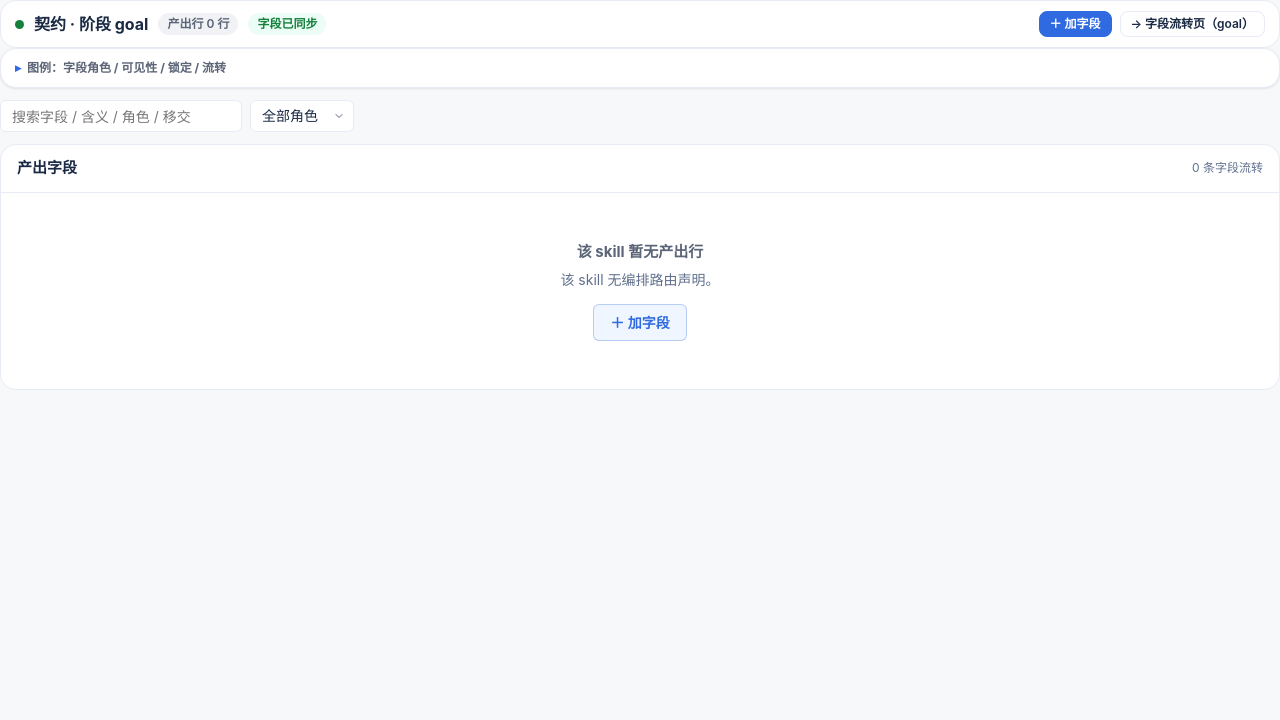
Test: 字段路由 · 加字段向导 › canAdd 为真时「＋ 加字段」可打开向导
Click the button "＋ 加字段" in the row of "字段已同步".
click(1075, 24)  # box [1038,11,1112,37]
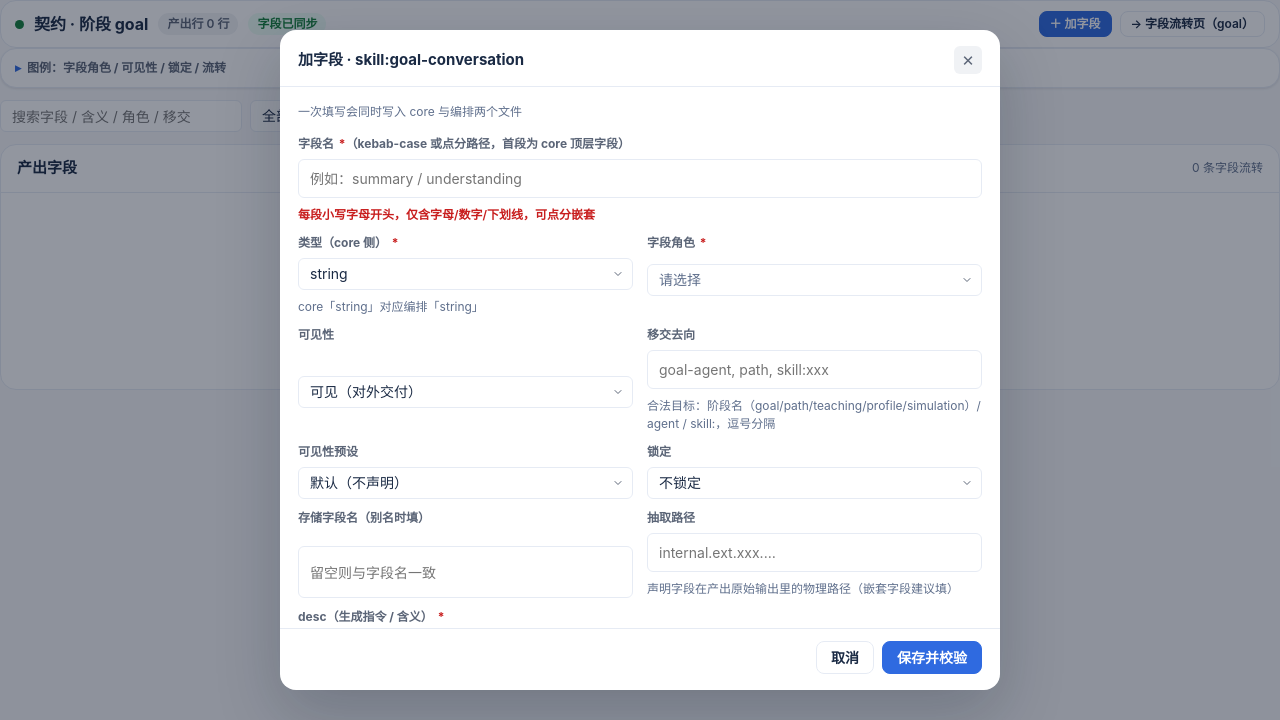
Check: the element with class "mk-modal" is shown
